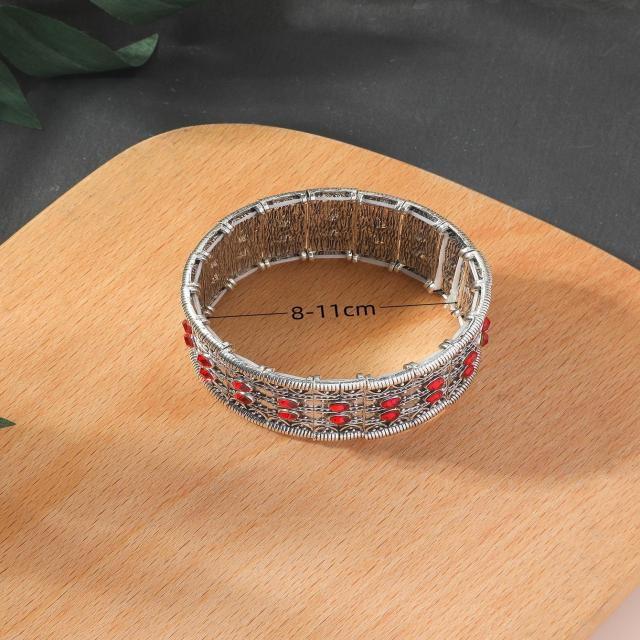bracelet: (161, 140, 535, 465)
